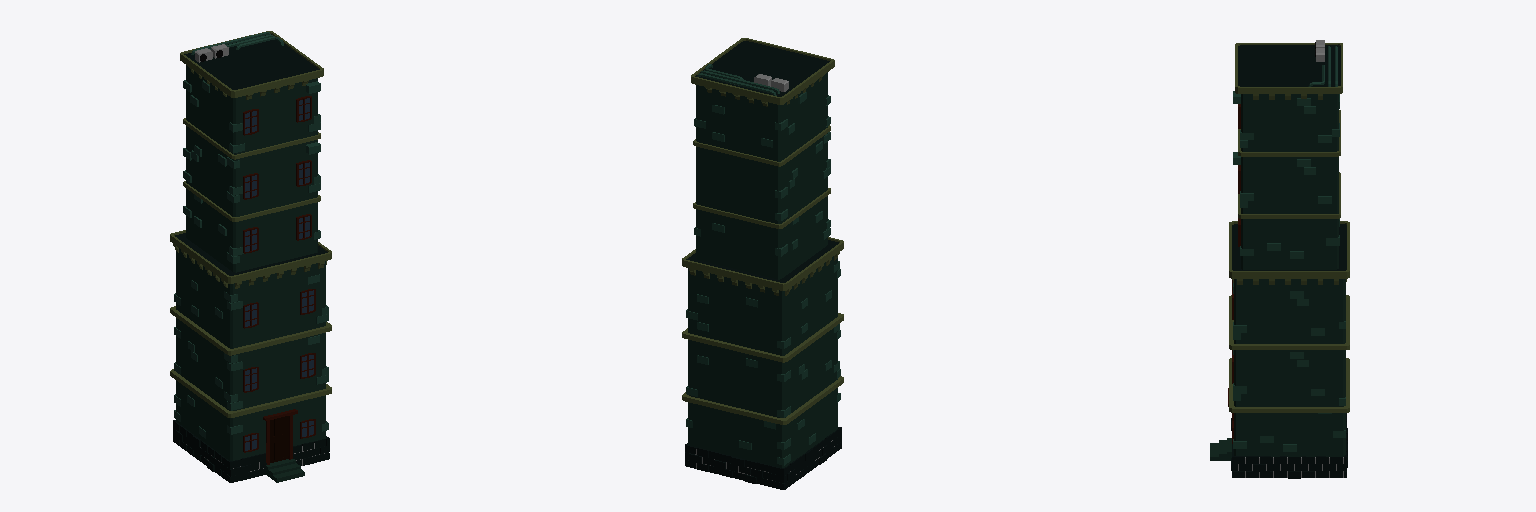
The model's file is 6Story_Stack_Mat.obj.
3 renders of one model, left to right at view 1: azimuth 30°, elevation 25°; view 2: azimuth 150°, elevation 25°; view 3: azimuth 270°, elevation 25°, orthographic.
Visible parts, largest first — view 1: 6Story_Stack_Mat_Cube.012; view 2: 6Story_Stack_Mat_Cube.012; view 3: 6Story_Stack_Mat_Cube.012.
Part boxes in pixels (x1,y1,x2,y2): 6Story_Stack_Mat_Cube.012: (170,31,331,482); 6Story_Stack_Mat_Cube.012: (682,38,843,489); 6Story_Stack_Mat_Cube.012: (1210,40,1349,478).
Size of the model in its own units: 2.16 by 7.8 by 2.5.